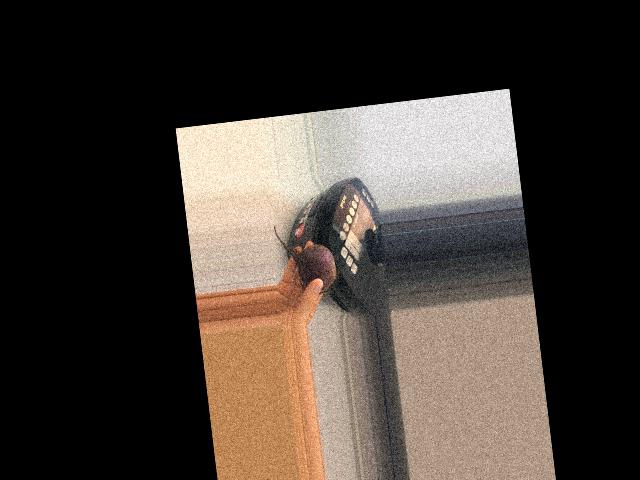beet: (273, 217, 340, 297)
